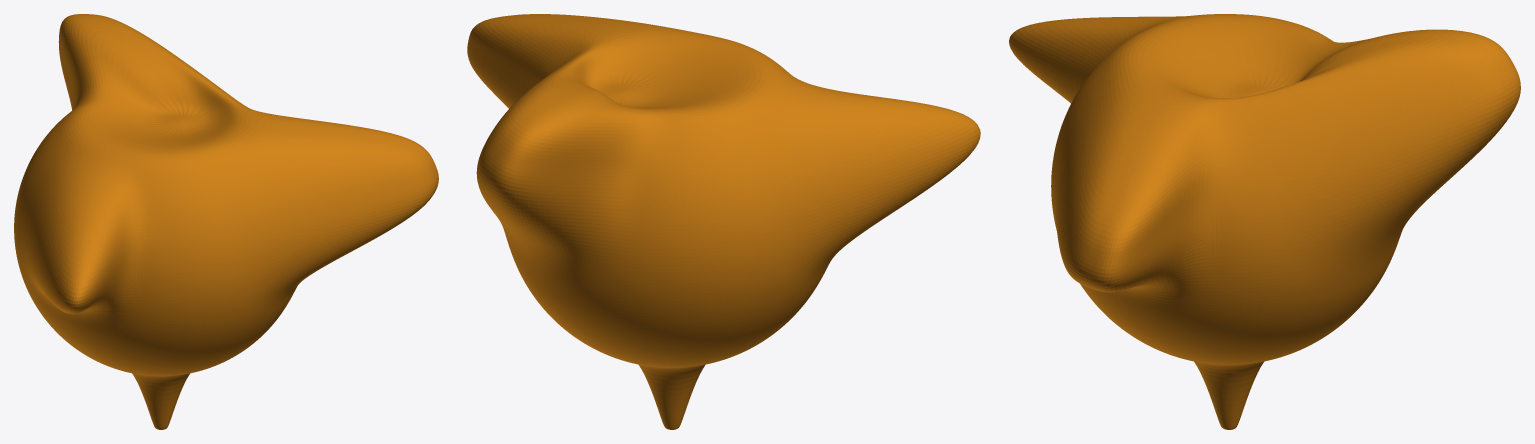
Rendered from thing2.obj.
3 views of the same model, side by side, from view 1: azimuth 30°, elevation 25°; view 2: azimuth 150°, elevation 25°; view 3: azimuth 270°, elevation 25° (orthographic). The views are drawn at different scales.
Parts seen in each view (by area): view 1: Sphere; view 2: Sphere; view 3: Sphere.
Boxes of the visible parts, box(x1,y1,x2,y2) form: Sphere: box(14, 14, 438, 429); Sphere: box(467, 14, 980, 429); Sphere: box(1009, 14, 1520, 429).
Size of the model in its own units: 3.14 by 2.49 by 2.84.
